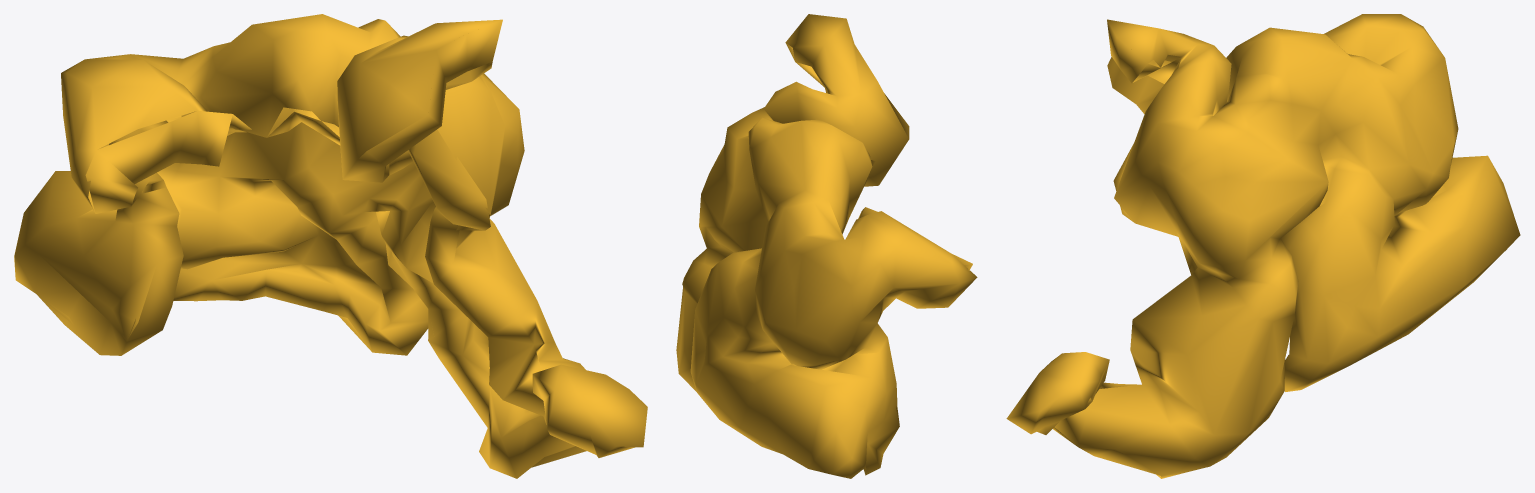
Rendered from nervoso-angular-gyrus-l.glb.
3 views of the same model, side by side, from view 1: azimuth 30°, elevation 25°; view 2: azimuth 150°, elevation 25°; view 3: azimuth 270°, elevation 25° (orthographic). The views are drawn at different scales.
Parts seen in each view (by area): view 1: Angular gyrus.l; view 2: Angular gyrus.l; view 3: Angular gyrus.l.
Boxes of the visible parts, box(x1,y1,x2,y2) form: Angular gyrus.l: box(14, 14, 647, 478); Angular gyrus.l: box(676, 14, 977, 478); Angular gyrus.l: box(1006, 14, 1520, 478).
Size of the model in its own units: 0.043 by 0.0473 by 0.0518.
